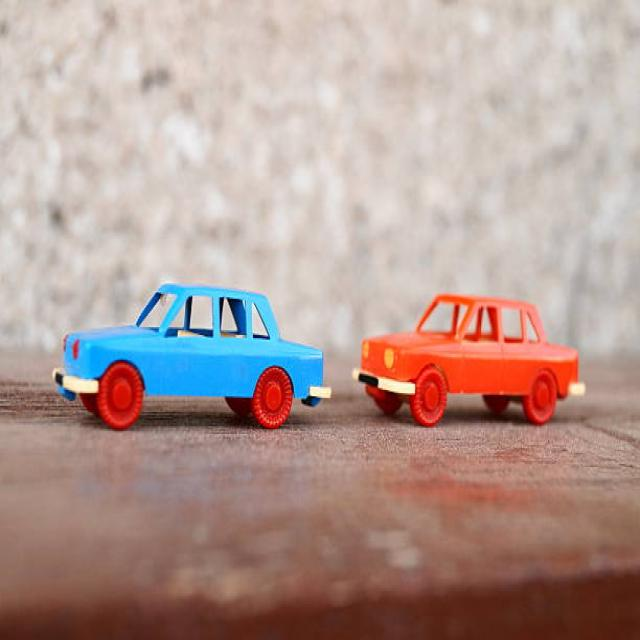Car: (52, 282, 332, 429), (352, 293, 586, 426)
